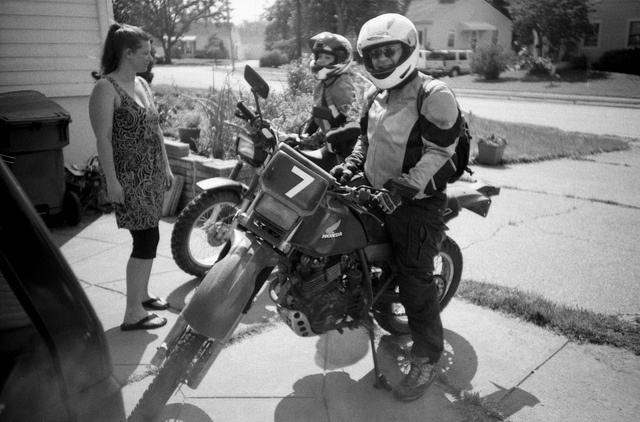non-vehicle: (126, 140, 499, 421), (170, 63, 332, 277)
